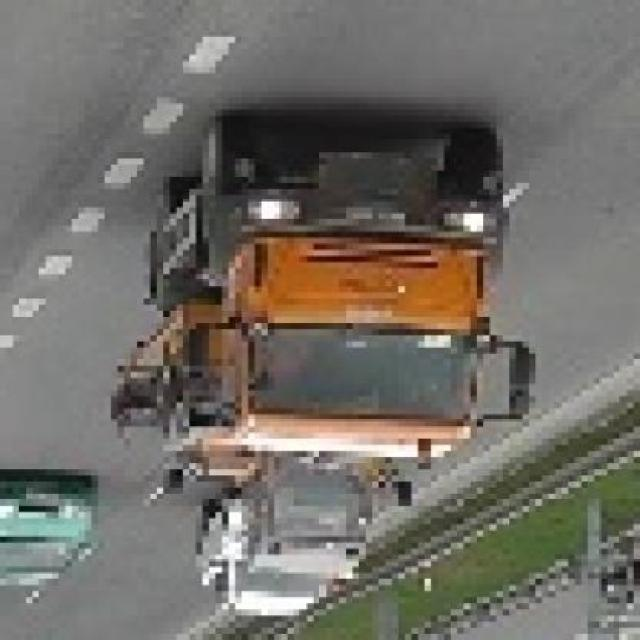truck: (125, 129, 529, 483)
